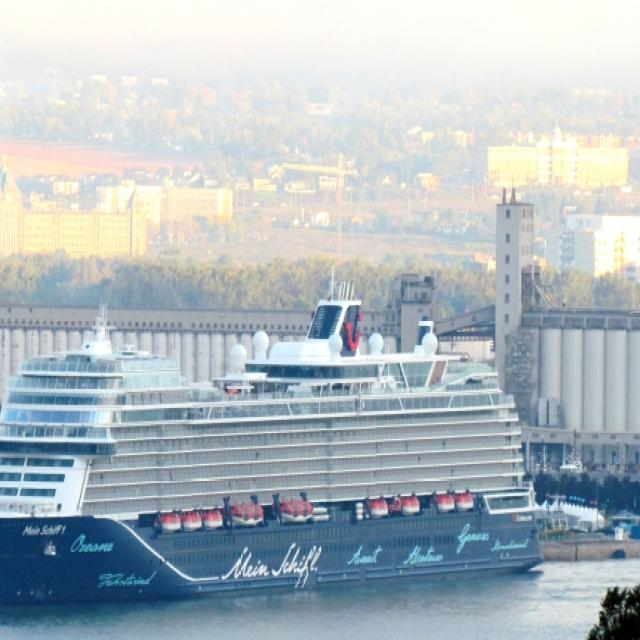cruises: (1, 283, 549, 628)
